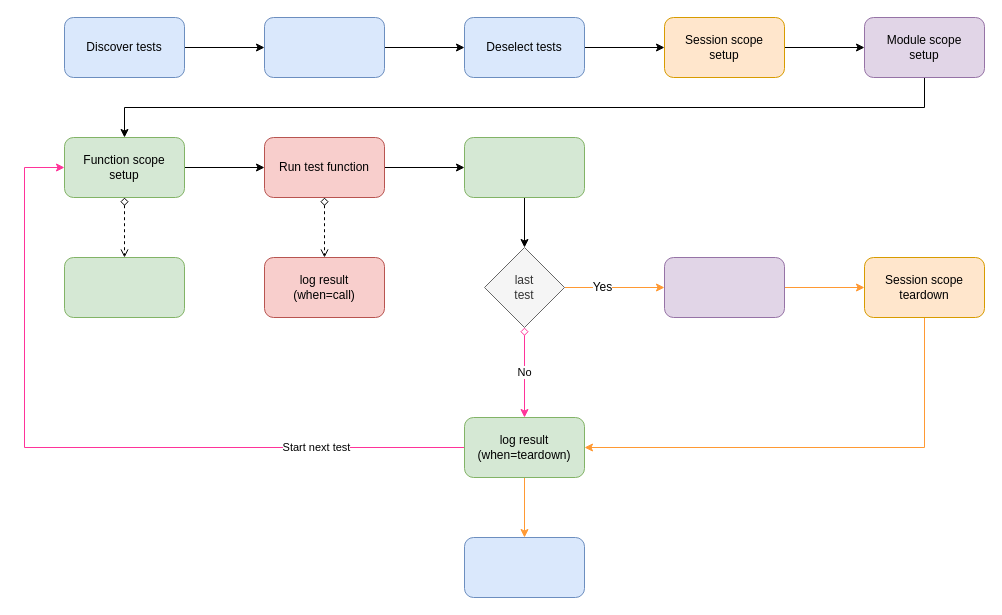
The diagram is 1002 pixels wide and 615 high, and some of its shapes have lost their labels. The shapes that lost their labels are listed below. From the top down, each one's centre as x and y in pixels, then its label:
[324,47]: Collect tests
[524,167]: Function scope teardown
[124,287]: log result (when=setup)
[724,287]: Module scope teardown
[524,567]: Report
